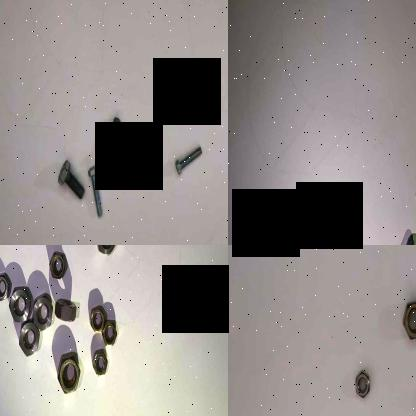Bolts: (55, 156, 87, 204), (102, 112, 124, 166), (174, 136, 202, 178), (87, 162, 103, 218), (390, 230, 416, 245)
NUTS: (54, 348, 80, 394), (6, 277, 32, 321), (16, 318, 42, 360), (30, 286, 54, 330), (53, 294, 80, 323), (400, 295, 416, 341), (100, 316, 120, 349), (47, 245, 65, 281), (89, 346, 108, 378), (353, 368, 370, 400), (89, 302, 104, 336), (0, 269, 10, 303), (94, 245, 118, 256)
